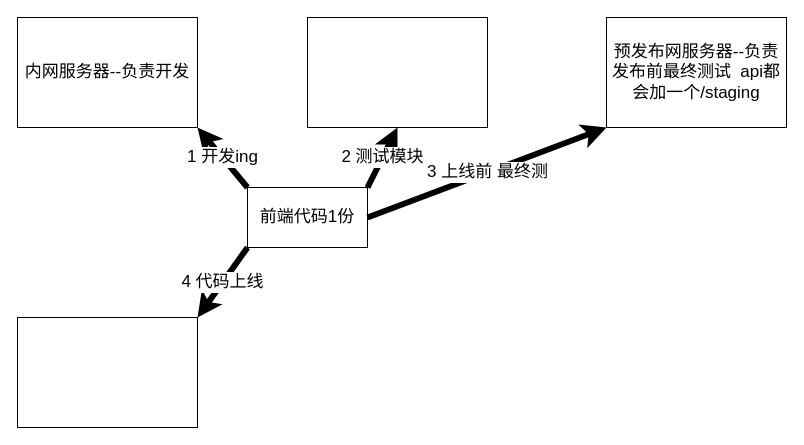
Image size: 804x445. Some labels were removed from this diagram. The shapes that lost their labels are listed below. From the top down, each one's centre as x and y in pixels, then its label:
At [397,72]: "测试网服务器--负责测试 api都会加一个/test前缀".
At [107,372]: "线上服务器--负责发布 api 可以加一个/v2".
